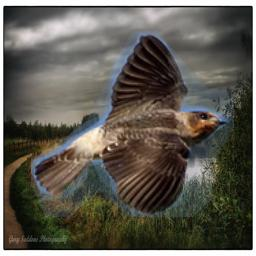Swallow: (31, 31, 234, 217)
